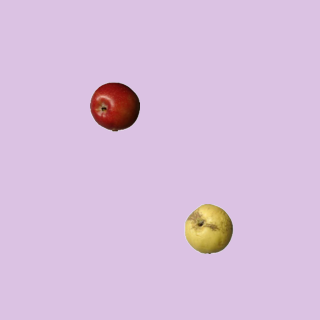Apple Braeburn: (89, 81, 139, 131)
Apple Golden 1: (183, 203, 233, 253)
